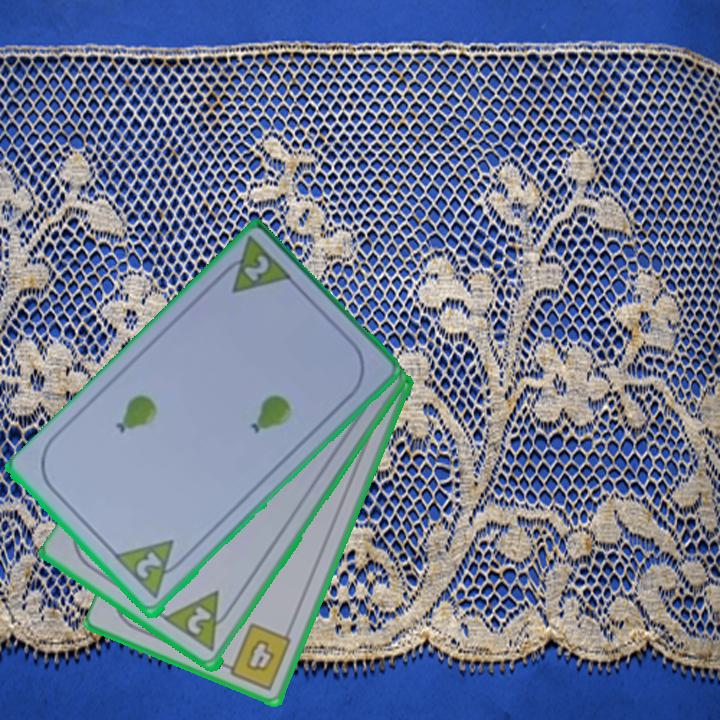2p: (213, 234, 297, 298), (112, 537, 191, 603), (183, 603, 215, 638)
4b: (218, 619, 295, 693)
